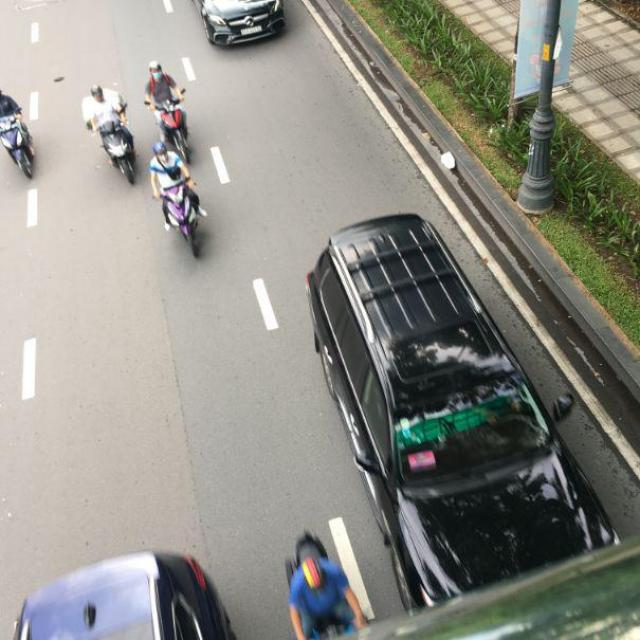car: (296, 205, 624, 617), (195, 0, 288, 49)
motorcycle: (162, 189, 205, 258), (1, 116, 36, 180), (102, 123, 138, 184)
